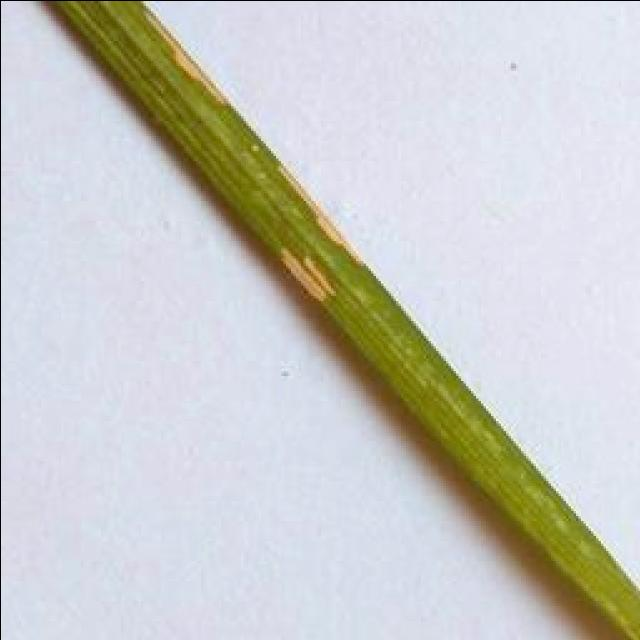Unhealthy: (276, 163, 364, 264), (280, 247, 336, 304)
